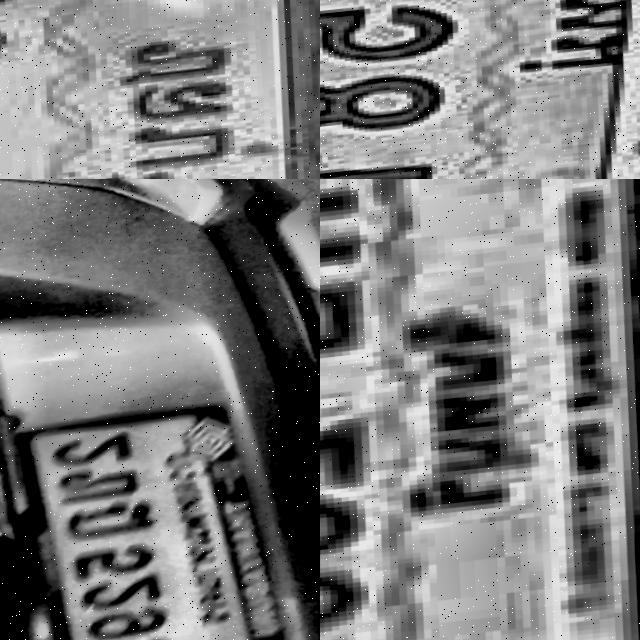license-plate: (320, 179, 640, 640), (0, 0, 320, 179), (320, 0, 640, 179), (37, 412, 260, 640)
